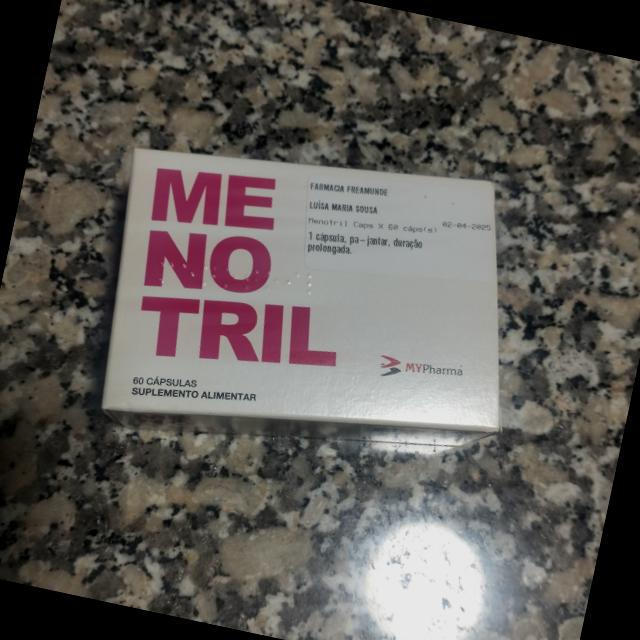box: (96, 149, 499, 445)
